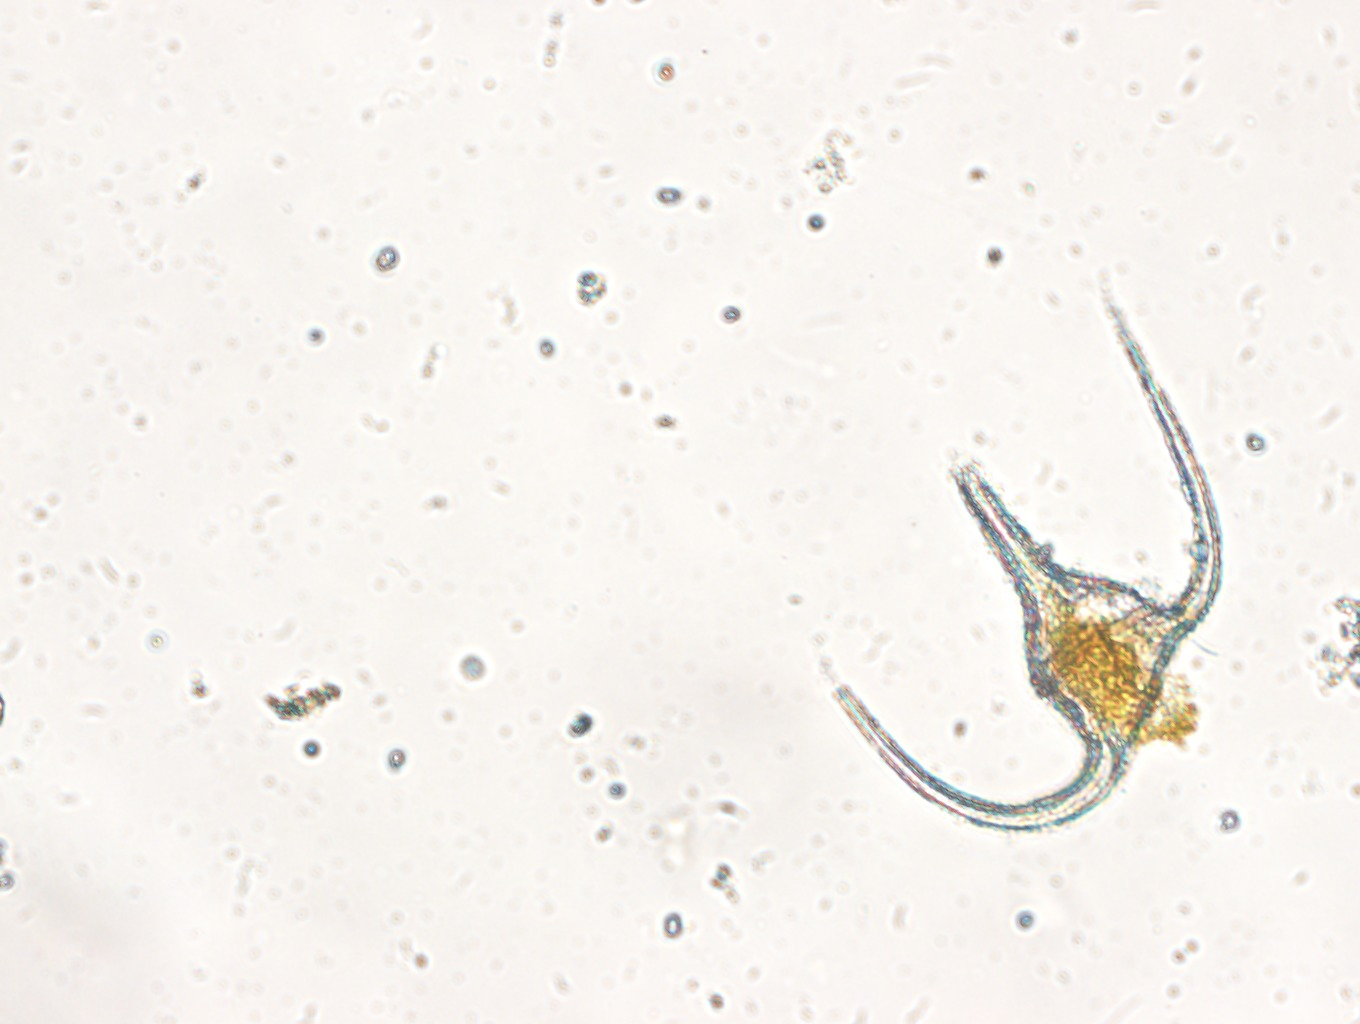ceratium trichoceros: (797, 291, 1232, 837)
